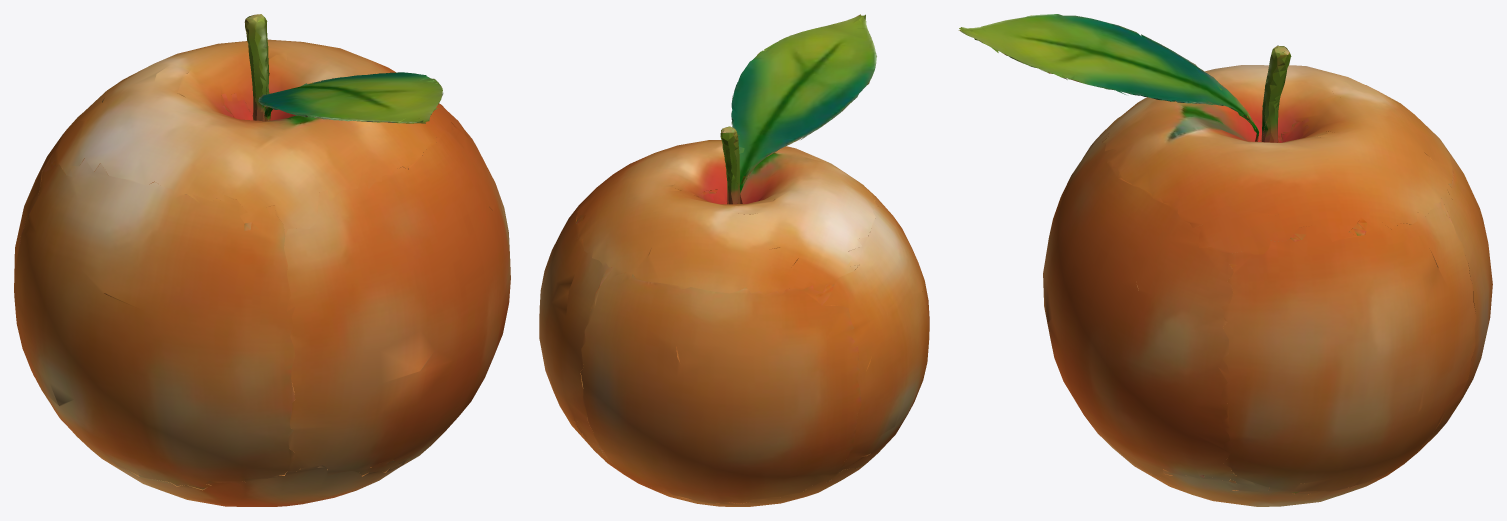
The model's file is ball.glb.
3 views of the same model, side by side, from view 1: azimuth 30°, elevation 25°; view 2: azimuth 150°, elevation 25°; view 3: azimuth 270°, elevation 25° (orthographic). The views are drawn at different scales.
Parts seen in each view (by area): view 1: Seed; view 2: Seed; view 3: Seed.
Boxes of the visible parts, x1,y1,x2,y2 form: Seed: (14, 14, 510, 506); Seed: (539, 14, 929, 506); Seed: (958, 14, 1492, 506).
Bounding box in the file's own units: 0.8898 × 0.8918 × 1.
Materials: 1 (1 with a texture image).
